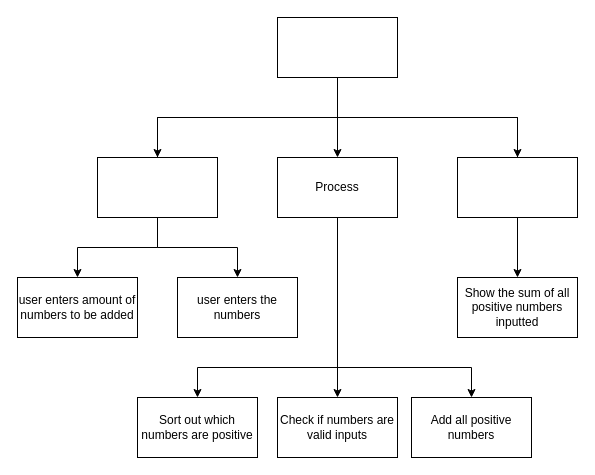
Image size: 595x475. Some labels were removed from this diagram. Each missing label, with the centre of its shape:
"Addition" belongs at (337,47).
"Input" belongs at (157,187).
"Output" belongs at (517,187).
